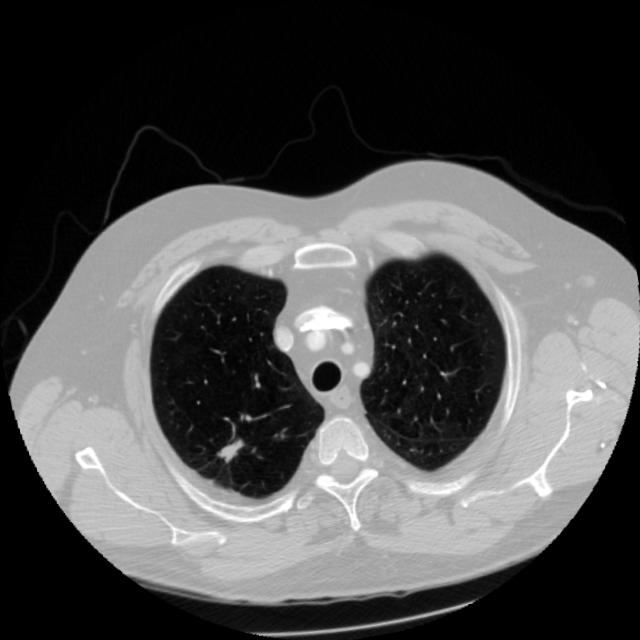nodule: (198, 414, 262, 478)
